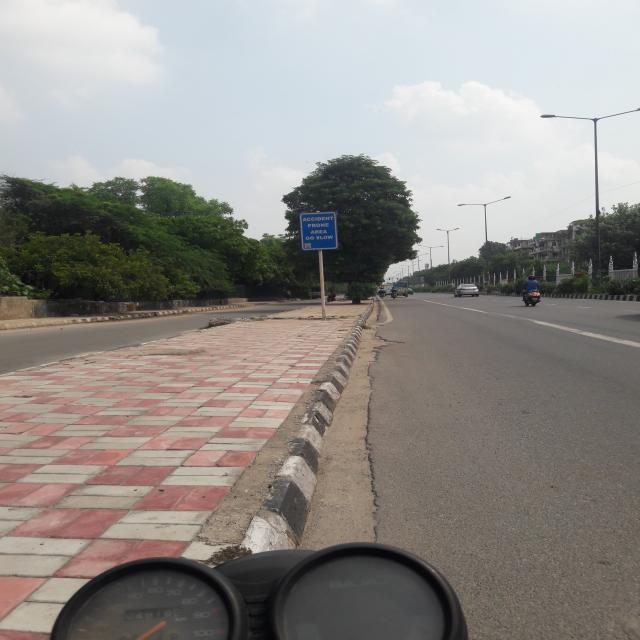INFORMATION: (300, 212, 338, 250)
